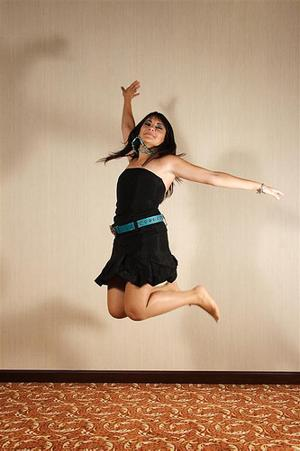person: (94, 80, 284, 326)
